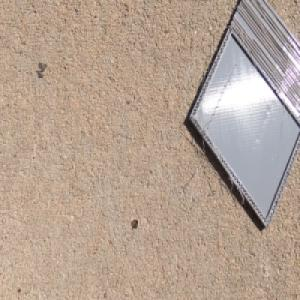PlasticPart: (186, 0, 300, 231)
